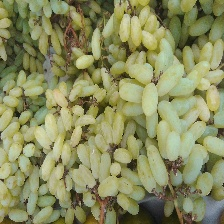grapes: (14, 46, 194, 212)
